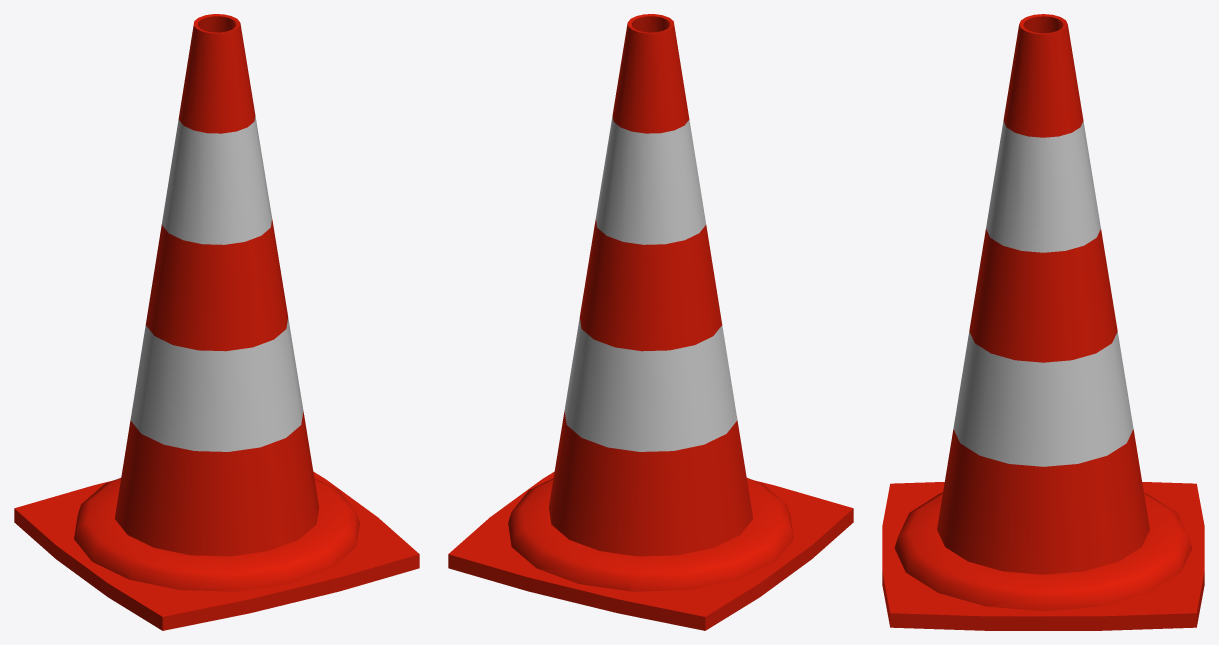
3 views of the same model, side by side, from view 1: azimuth 30°, elevation 25°; view 2: azimuth 150°, elevation 25°; view 3: azimuth 270°, elevation 25° (orthographic). The views are drawn at different scales.
Parts seen in each view (by area): view 1: Cube_Cube.001; view 2: Cube_Cube.001; view 3: Cube_Cube.001.
Part boxes in pixels (bbox=[...]): Cube_Cube.001: bbox=[14, 14, 419, 630]; Cube_Cube.001: bbox=[448, 14, 853, 630]; Cube_Cube.001: bbox=[882, 14, 1204, 630].
Bounding box in the file's own units: 0.542 × 1 × 0.542.
